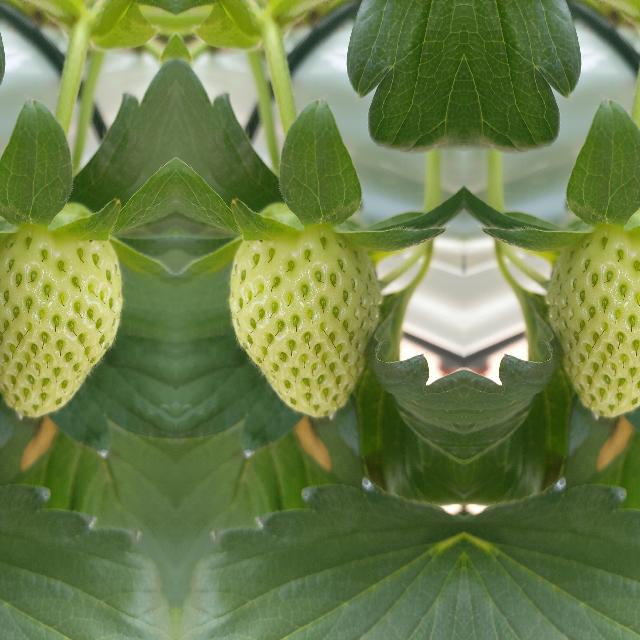Health_25: (228, 227, 379, 418), (0, 226, 121, 417), (546, 226, 640, 417)
